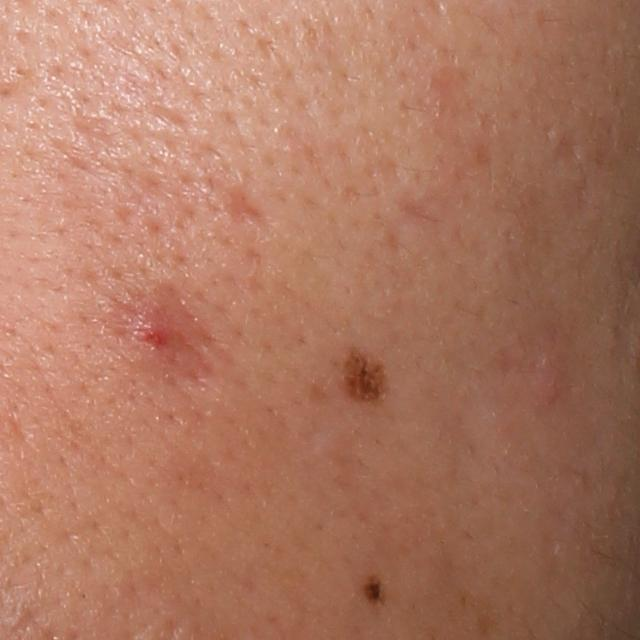atrophic_scar: (223, 183, 272, 232), (551, 126, 581, 167)
nevus: (341, 343, 397, 411), (361, 577, 388, 606)
papule: (536, 355, 572, 410), (130, 316, 172, 357)
